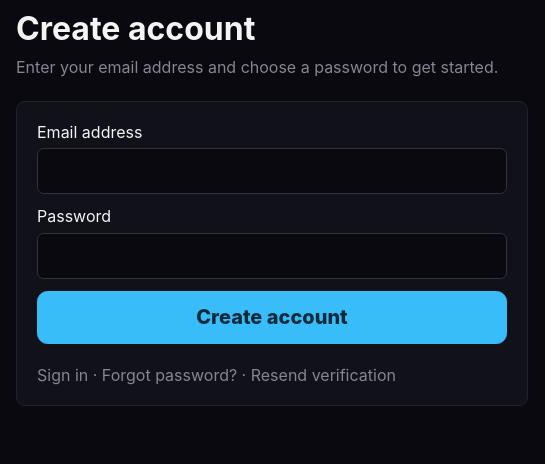
it: submits registration by keyboard, clears its password, and focuses feedback
This screenshot has width=545, height=464.
Type "ryan@example.test" into the field labelled "Email address".
click(272, 171); type("ryan@example.test")  # box [37, 148, 507, 194]
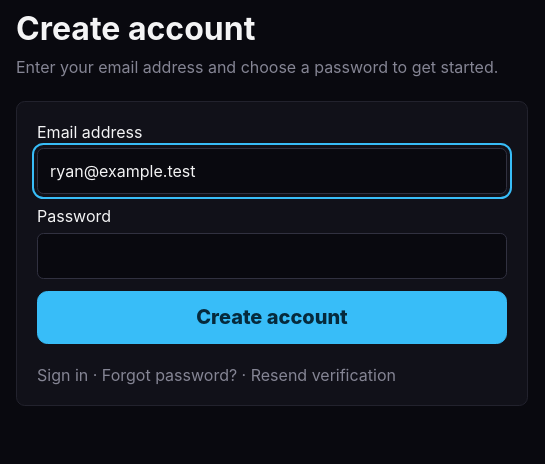
Type "abcdef" into the password field labelled "Password".
click(272, 256); type("abcdef")  # box [37, 233, 507, 279]
Then press Enter
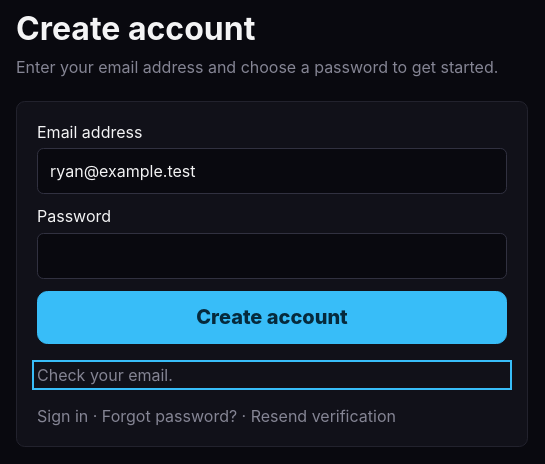
expect the message reads "Check your email.": met, box [37, 365, 173, 385]
